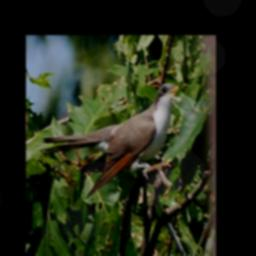Cuckoo: (38, 81, 179, 198)
